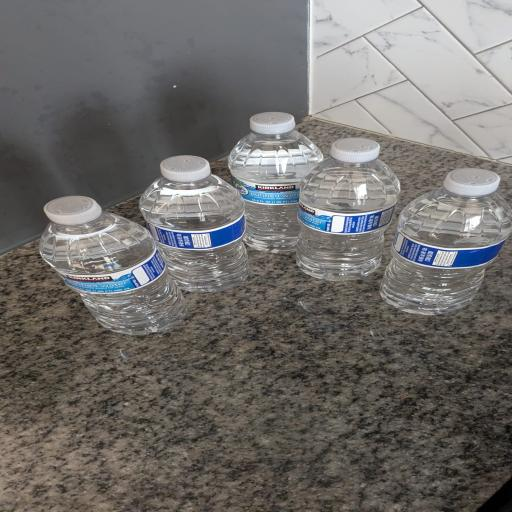waterbottle: (40, 197, 186, 334), (381, 169, 511, 314), (297, 138, 400, 280), (140, 156, 248, 291), (229, 112, 322, 253)
